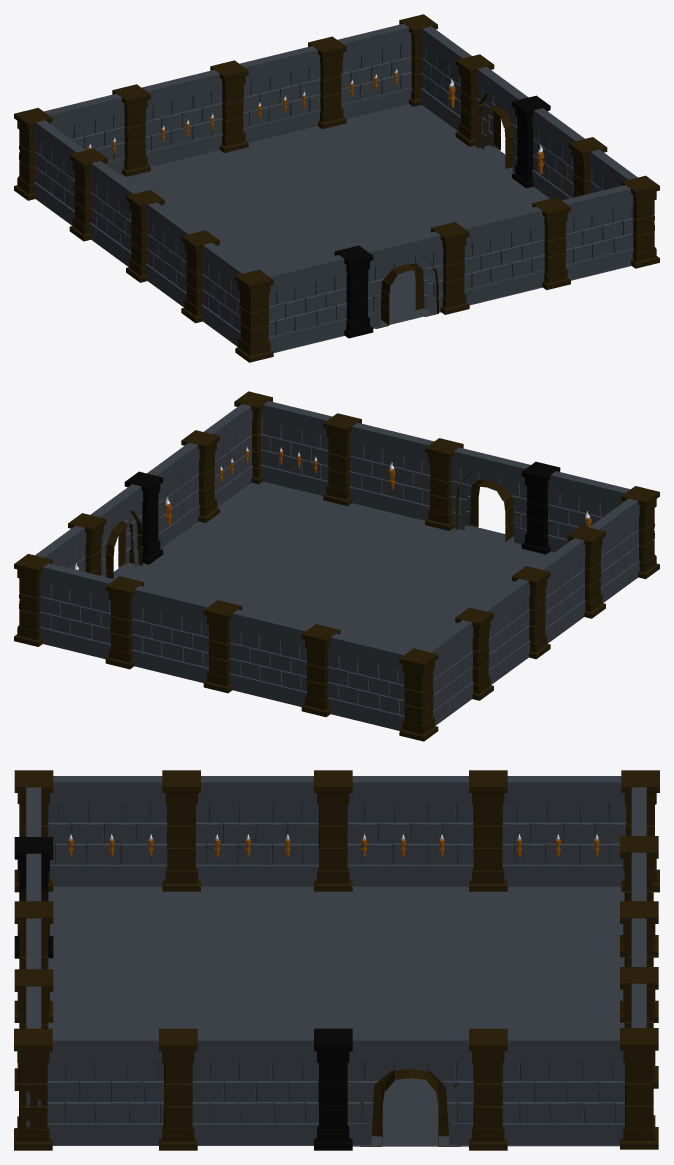
Rendered from escena_plataforma.fbx.
3 views of the same model, one above another, from view 1: azimuth 30°, elevation 25°; view 2: azimuth 150°, elevation 25°; view 3: azimuth 270°, elevation 25° (orthographic). The views are drawn at different scales.
Parts seen in each view (by area): view 1: wall, wall.002, wall.003, wall.008, wall.010, doorway, wall.011, wall.009, Plane, Plane.002, wall.007, wall.006 (+16 smaller); view 2: wall.002, wall.003, wall.008, wall.009, wall.011, wall.010, doorway, wall.006, Plane.001, Plane.003, wall, wall.007 (+15 smaller); view 3: wall.001, wall.007, wall.004, wall.005, wall.013, wall.012, wall.006, doorway.002, Plane.001, Plane, Plane.006, Plane.007 (+17 smaller).
Boxes of the visible parts, box(x1,y1,x2,y2) form: wall: box(235, 255, 347, 362); wall.002: box(431, 206, 545, 314); wall.003: box(239, 36, 346, 142); wall.008: box(142, 60, 248, 166); wall.010: box(532, 185, 633, 290); doorway: box(334, 231, 443, 338); wall.011: box(337, 14, 437, 118); wall.009: box(44, 84, 150, 176); Plane: box(188, 185, 341, 249); Plane.002: box(286, 161, 439, 226); wall.007: box(69, 148, 141, 266); wall.006: box(14, 107, 85, 225); wall.002: box(349, 422, 463, 530); wall.003: box(105, 576, 212, 682); wall.008: box(203, 600, 310, 706); wall.009: box(301, 624, 408, 730); wall.011: box(14, 554, 114, 659); wall.010: box(260, 401, 361, 506); doorway: box(451, 447, 560, 554); wall.006: box(399, 620, 473, 741); Plane.001: box(334, 561, 487, 626); Plane.003: box(236, 537, 389, 602); wall: box(547, 471, 659, 579); wall.007: box(455, 578, 530, 700); wall.001: box(159, 1028, 318, 1150); wall.007: box(347, 770, 507, 891); wall.004: box(469, 1028, 624, 1150); wall.005: box(196, 770, 352, 891); wall.013: box(48, 770, 200, 891); wall.012: box(14, 1028, 163, 1150); wall.006: box(502, 770, 659, 892); doorway.002: box(314, 1028, 473, 1150); Plane.001: box(178, 950, 333, 1015); Plane: box(333, 950, 488, 1015); Plane.006: box(333, 886, 488, 949); Plane.007: box(178, 886, 333, 949).
Bounding box in the file's own units: 1678 × 300 × 1667.
